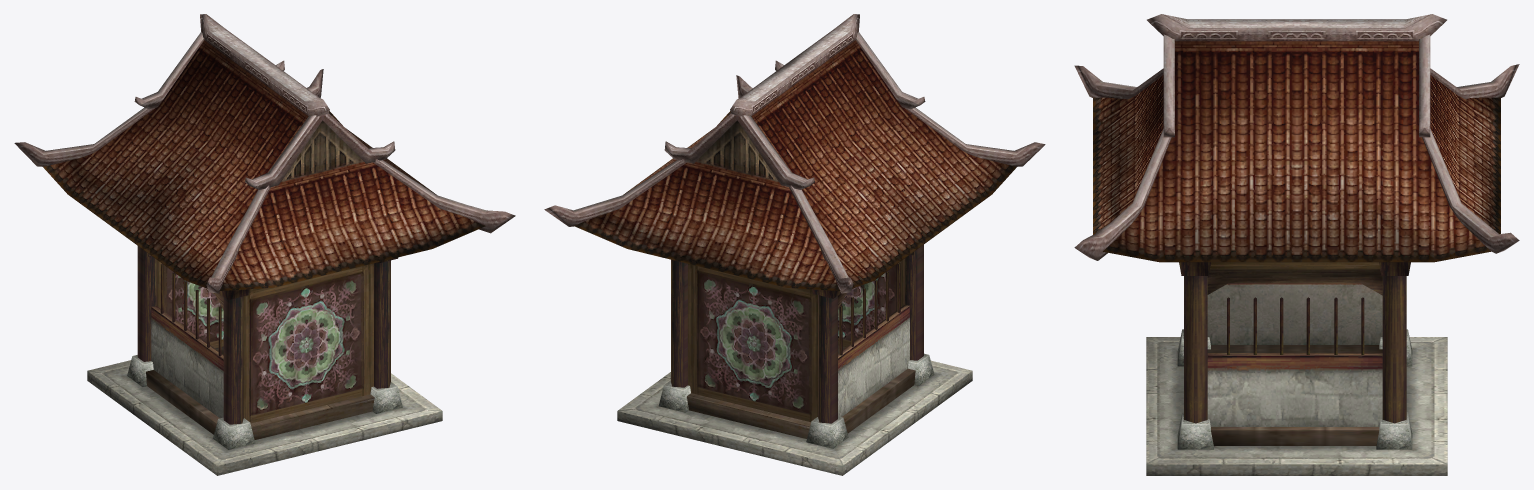
File: a1-004-house2_lod_01.fbx
3 views of the same model, side by side, from view 1: azimuth 30°, elevation 25°; view 2: azimuth 150°, elevation 25°; view 3: azimuth 270°, elevation 25° (orthographic). The views are drawn at different scales.
Visible parts, largest first — view 1: a1-004-house2; view 2: a1-004-house2; view 3: a1-004-house2.
Part boxes in pixels (x1,y1,x2,y2): a1-004-house2: (14, 14, 515, 475); a1-004-house2: (544, 14, 1045, 475); a1-004-house2: (1074, 14, 1519, 475).
Bounding box in the file's own units: 5.14 × 5.45 × 5.53.
